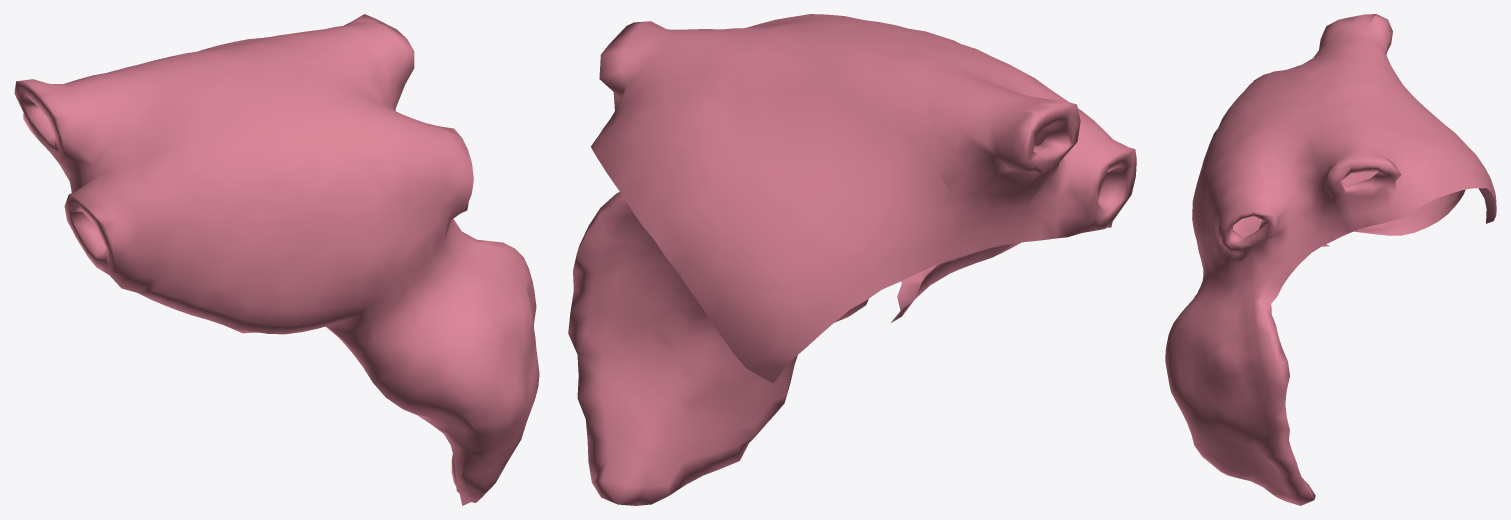
3 views of the same model, side by side, from view 1: azimuth 30°, elevation 25°; view 2: azimuth 150°, elevation 25°; view 3: azimuth 270°, elevation 25° (orthographic). The views are drawn at different scales.
Visible parts, largest first — view 1: 左心房; view 2: 左心房; view 3: 左心房.
Part boxes in pixels (left/top/right/bottom): 左心房: left=14, top=14, right=539, bottom=505; 左心房: left=568, top=14, right=1136, bottom=505; 左心房: left=1165, top=14, right=1496, bottom=505.
Size of the model in its own units: 0.1317 by 0.1272 by 0.1108.
